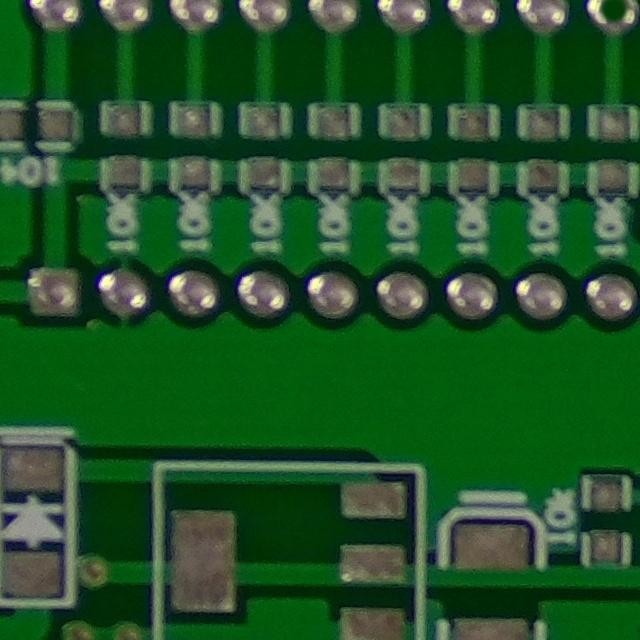missing_hole: (582, 0, 640, 42)
